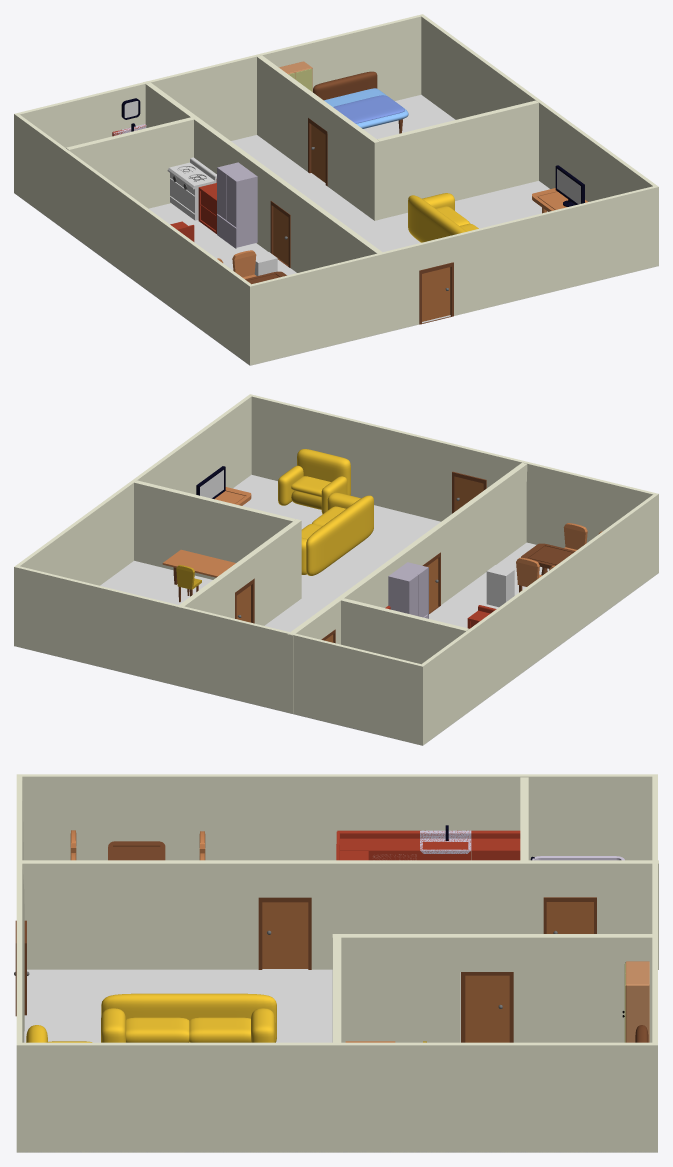
File: stage_1_rumah_fix.fbx
3 views of the same model, one above another, from view 1: azimuth 30°, elevation 25°; view 2: azimuth 150°, elevation 25°; view 3: azimuth 270°, elevation 25° (orthographic). The views are drawn at different scales.
Parts seen in each view (by area): view 1: Cube, Plane, Cube.025, Plane.002, Plane.001, Plane.003, Torus.001, Cube.022, Cube.046, Cube.079, Cube.055, Cube.053 (+8 smaller); view 2: Cube, Cube.025, Plane.001, Plane, Plane.002, Plane.003, Cube.046, Torus.001, Cube.051, Cube.059, Cube.052, Cylinder.002 (+6 smaller); view 3: Cube, Plane.001, Plane.002, Cube.025, Cube.046, Cube.080, Cube.083, Cube.085, Cube.042, Cube.043, Torus.007, Torus.014 (+11 smaller).
Part boxes in pixels (<box>): Cube: <box>14,14,658,365</box>; Plane: <box>377,100,538,219</box>; Cube.025: <box>17,94,658,365</box>; Plane.002: <box>257,55,379,220</box>; Plane.001: <box>143,81,381,272</box>; Plane.003: <box>66,117,193,208</box>; Torus.001: <box>217,162,257,248</box>; Cube.022: <box>167,157,216,220</box>; Cube.046: <box>408,195,466,242</box>; Cube.079: <box>422,267,450,321</box>; Cube.055: <box>333,95,404,123</box>; Cube.053: <box>313,71,377,100</box>; Cube: <box>14,394,658,745</box>; Cube.025: <box>16,474,657,745</box>; Plane.001: <box>287,462,527,713</box>; Plane: <box>134,480,295,579</box>; Plane.002: <box>176,519,301,686</box>; Plane.003: <box>341,598,468,664</box>; Cube.046: <box>306,495,373,575</box>; Torus.001: <box>388,562,428,618</box>; Cube.051: <box>297,449,350,495</box>; Cube.059: <box>162,549,235,577</box>; Cube.052: <box>486,565,514,607</box>; Cylinder.002: <box>521,543,575,575</box>; Cube: <box>16,774,657,1152</box>; Plane.001: <box>22,860,658,969</box>; Plane.002: <box>332,934,652,1042</box>; Cube.025: <box>17,969,657,1152</box>; Cube.046: <box>101,993,276,1042</box>; Cube.080: <box>262,902,308,968</box>; Cube.083: <box>465,975,509,1042</box>; Cube.085: <box>625,961,649,1042</box>; Cube.042: <box>126,1017,189,1042</box>; Cube.043: <box>189,1017,250,1042</box>; Torus.007: <box>369,830,419,860</box>; Torus.014: <box>471,830,520,860</box>.
Bounding box in the file's own units: 5821 × 1127 × 5855.
